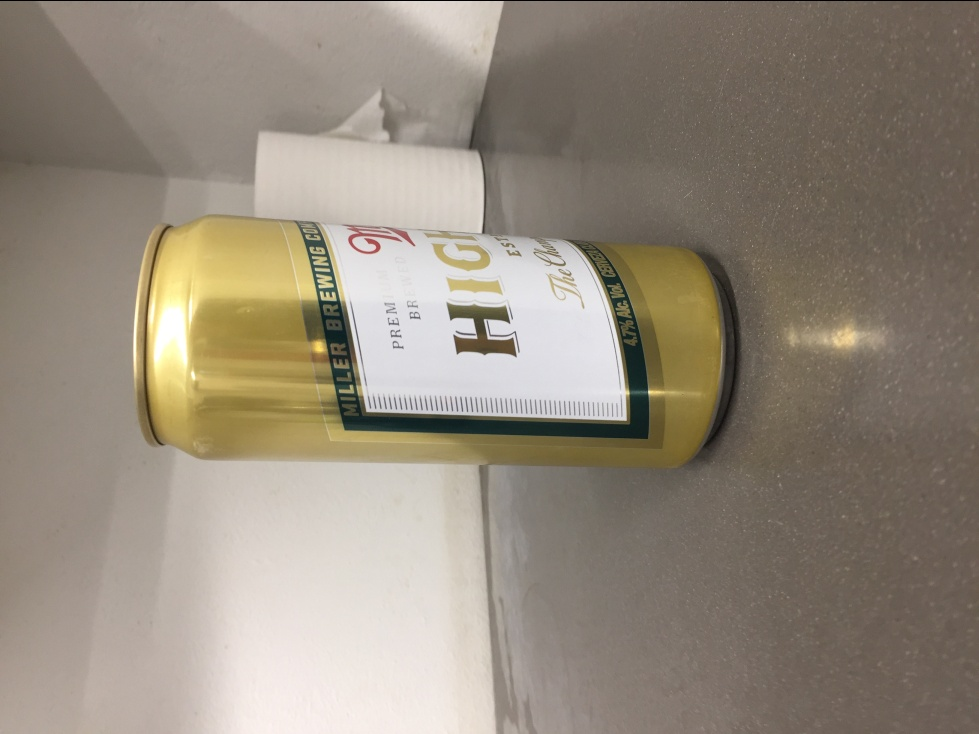miller: (130, 207, 737, 470)
